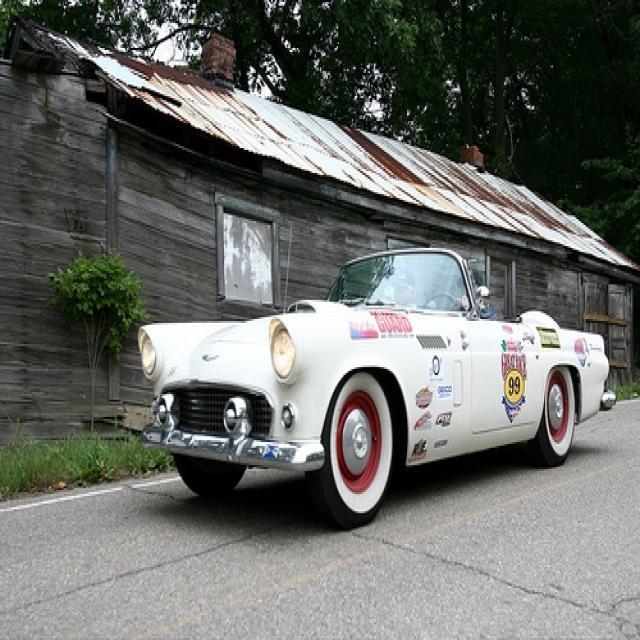car: (136, 244, 620, 525)
